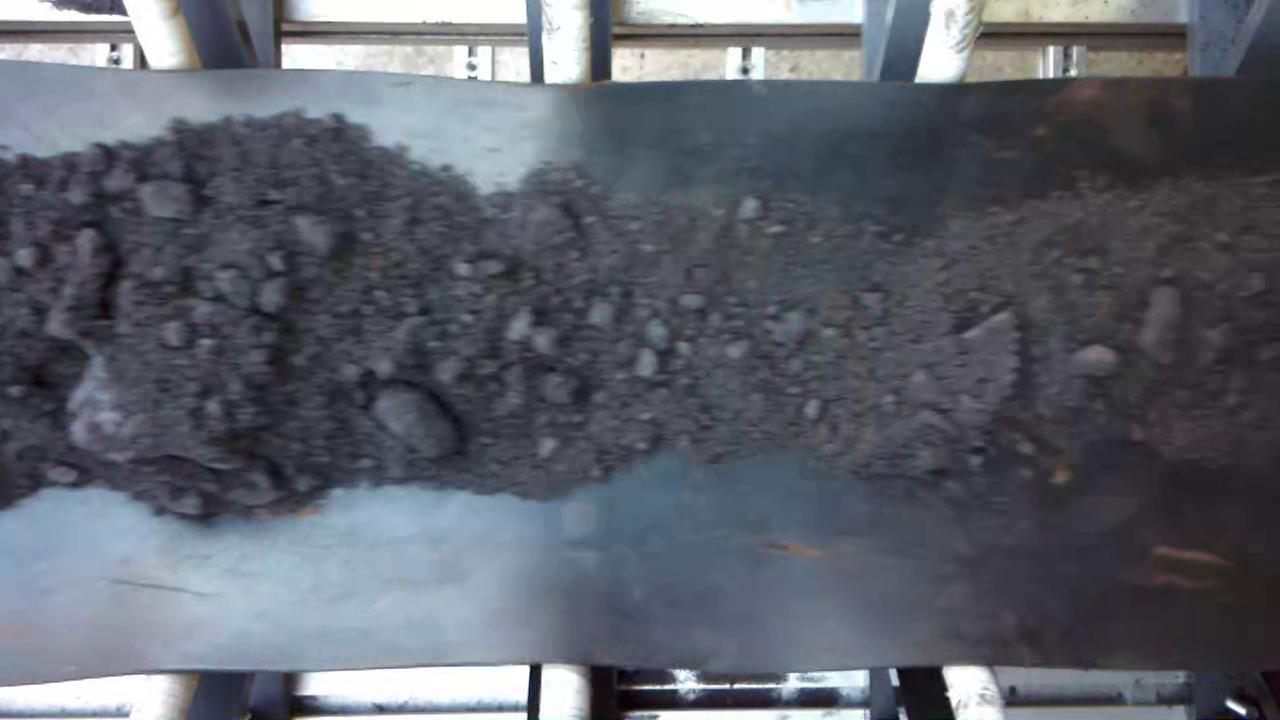conveyor: (6, 85, 1280, 662)
